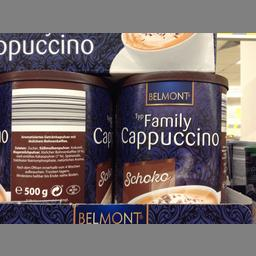coffee: (0, 68, 112, 202), (114, 71, 228, 202)
